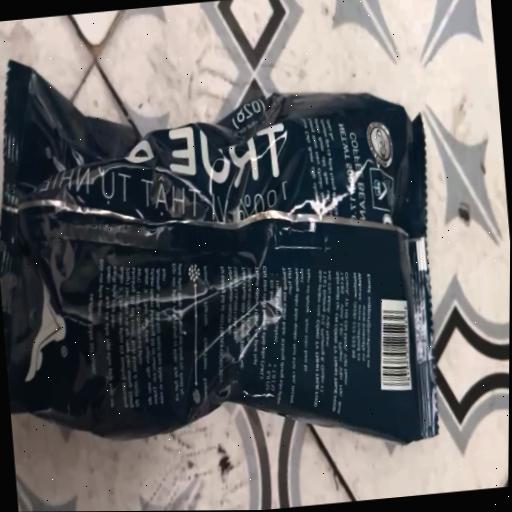cafe_hat: (0, 61, 437, 444)
